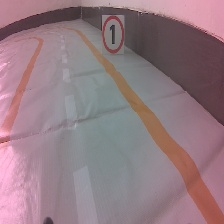limit: (101, 13, 126, 53)
